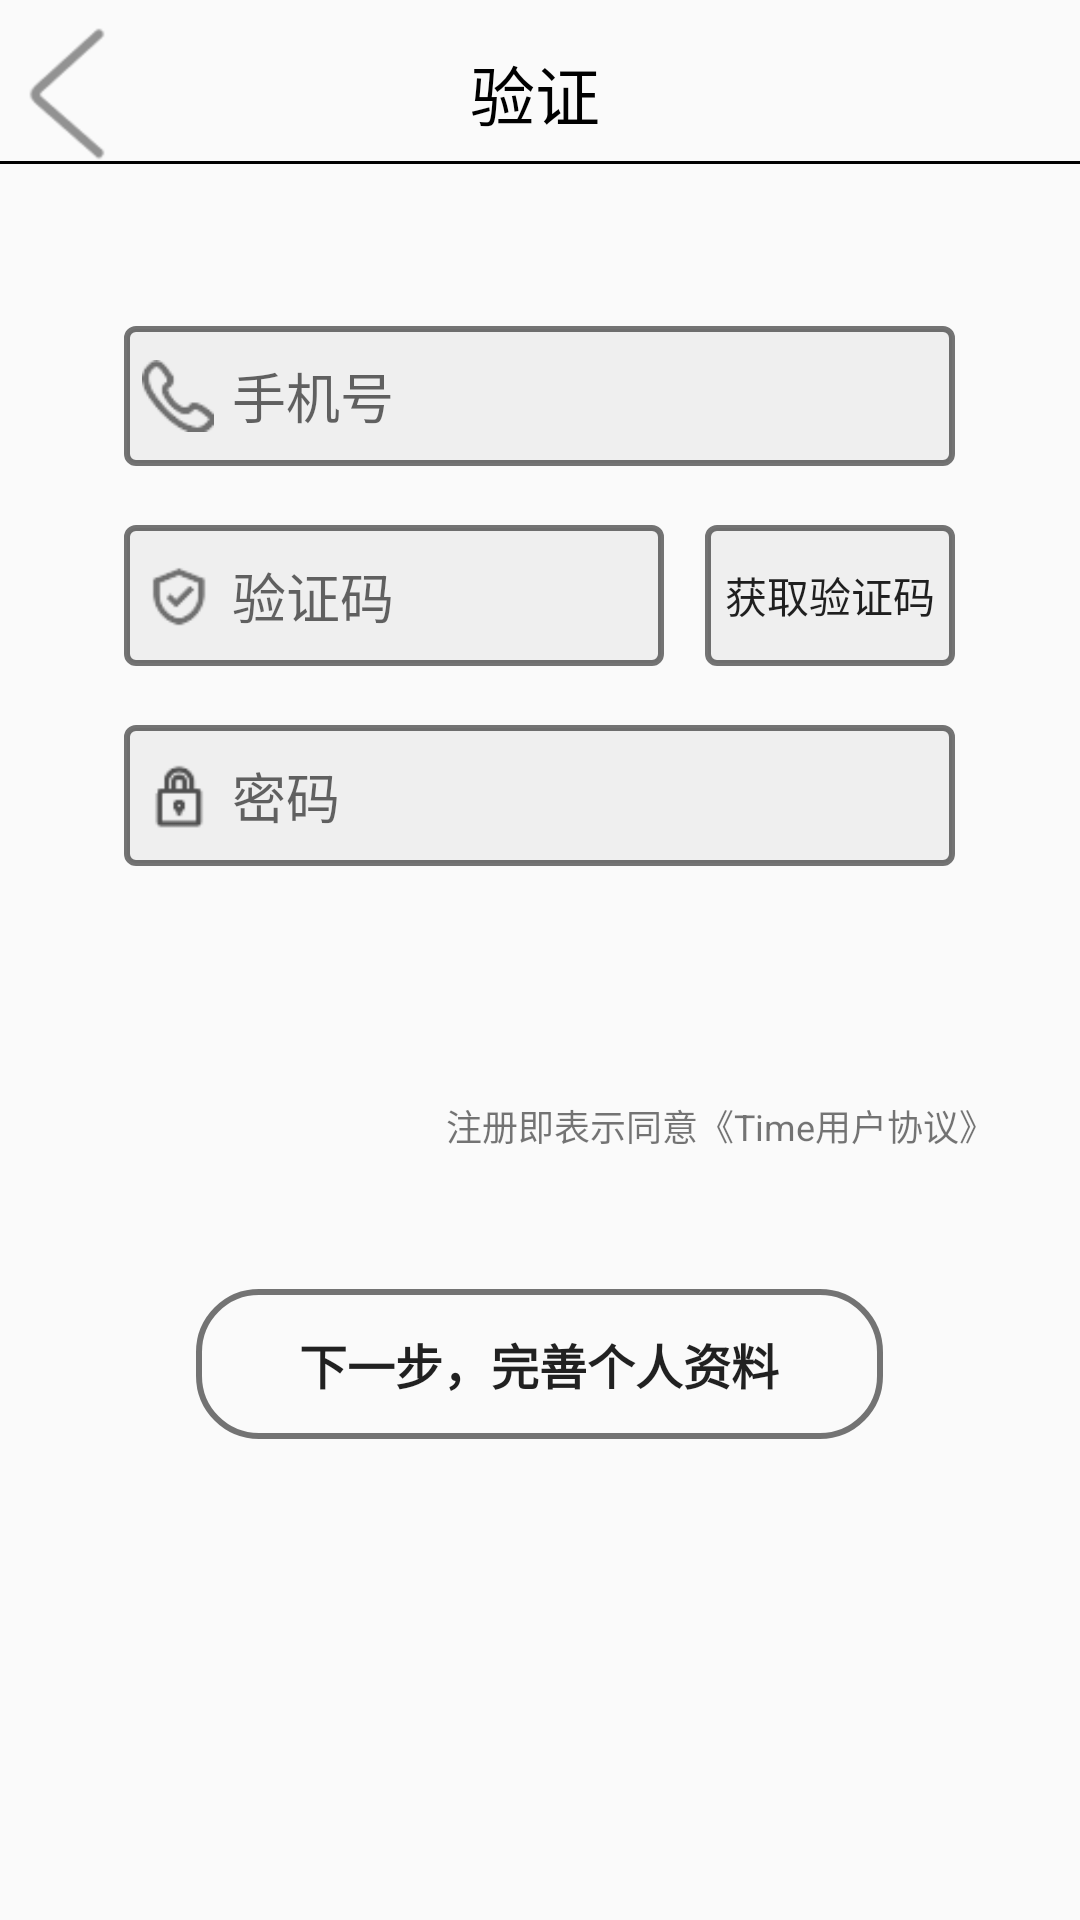

Icons on this 1080px×1920px Android screen, each with its box as (x1, y1, x2, y2):
back: (30, 29, 104, 159)
call: (142, 360, 214, 432)
